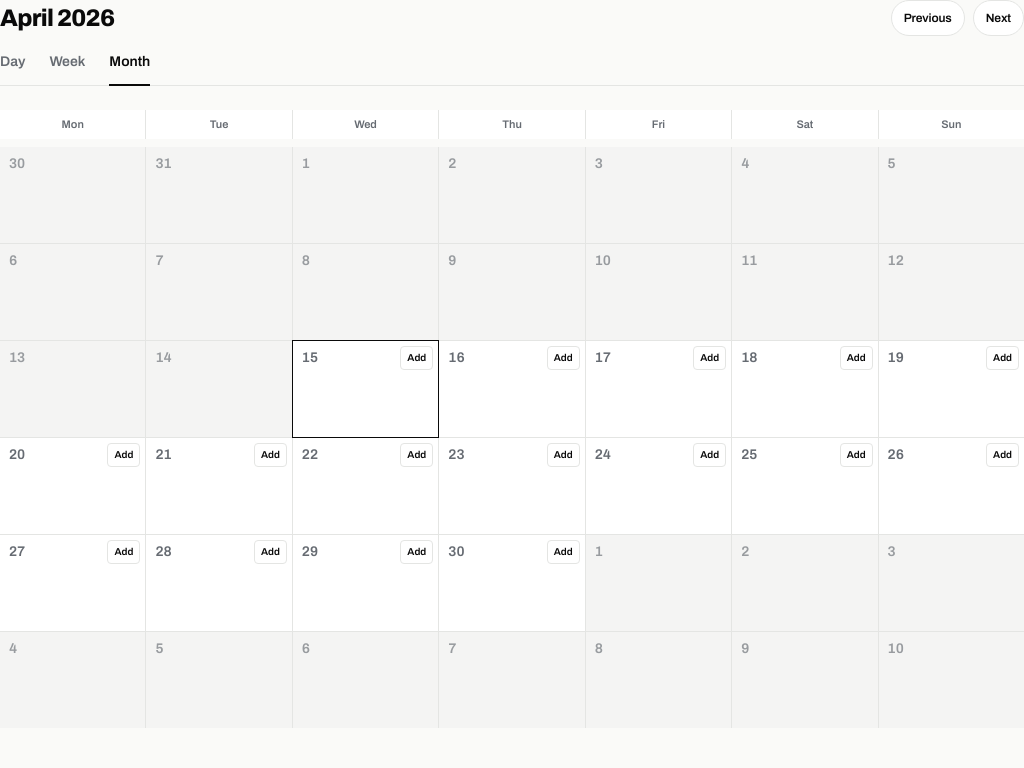
Scenario: TeacherAvailabilityCalendar › defaults to month: tap the day opens day view for edit/remove; Add chip opens the dialog
Click the button "18".
click(749, 358)  # box [737,346,761,370]
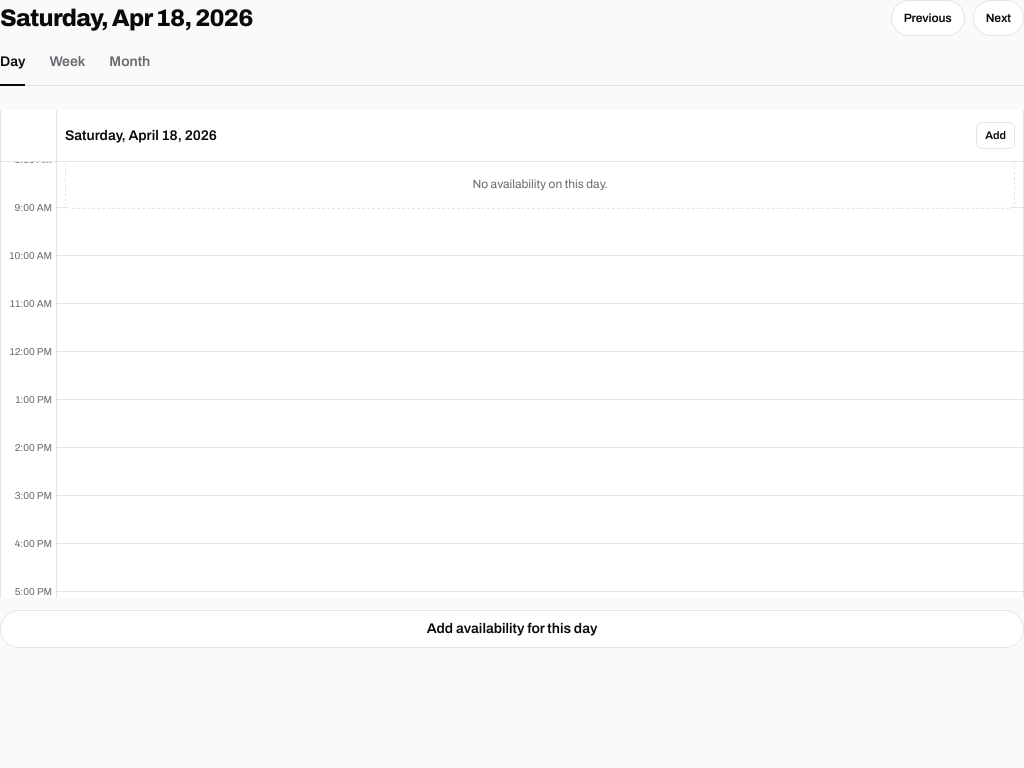
Expected: the button "Add availability for this day" is shown, [0,610,1023,648]
Click the button "Month".
click(130, 67)  # box [109,48,150,86]
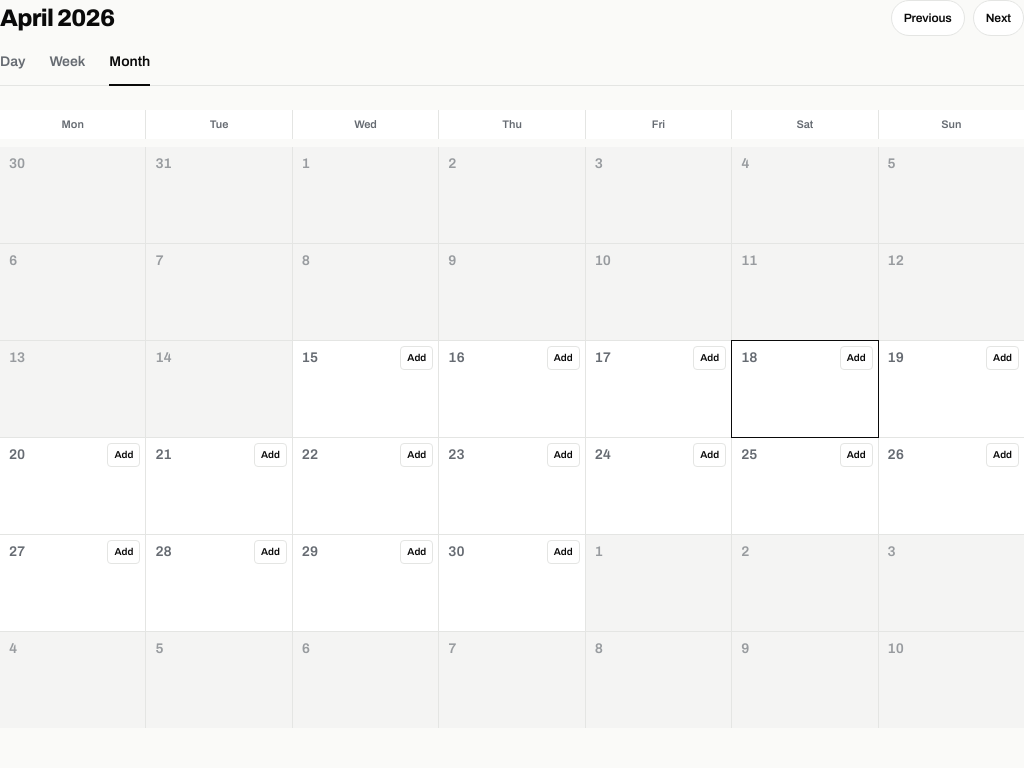
Click the 4th button "Add".
click(856, 358)  # box [840,346,872,370]
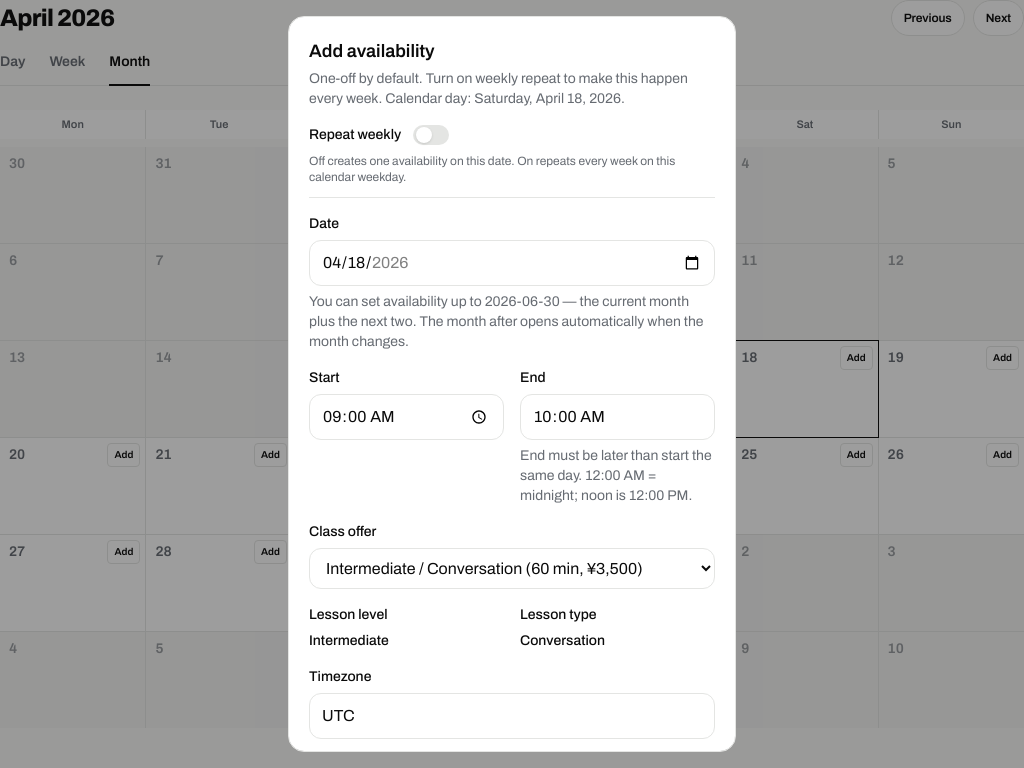
Expected: the dialog "Add availability" is shown
